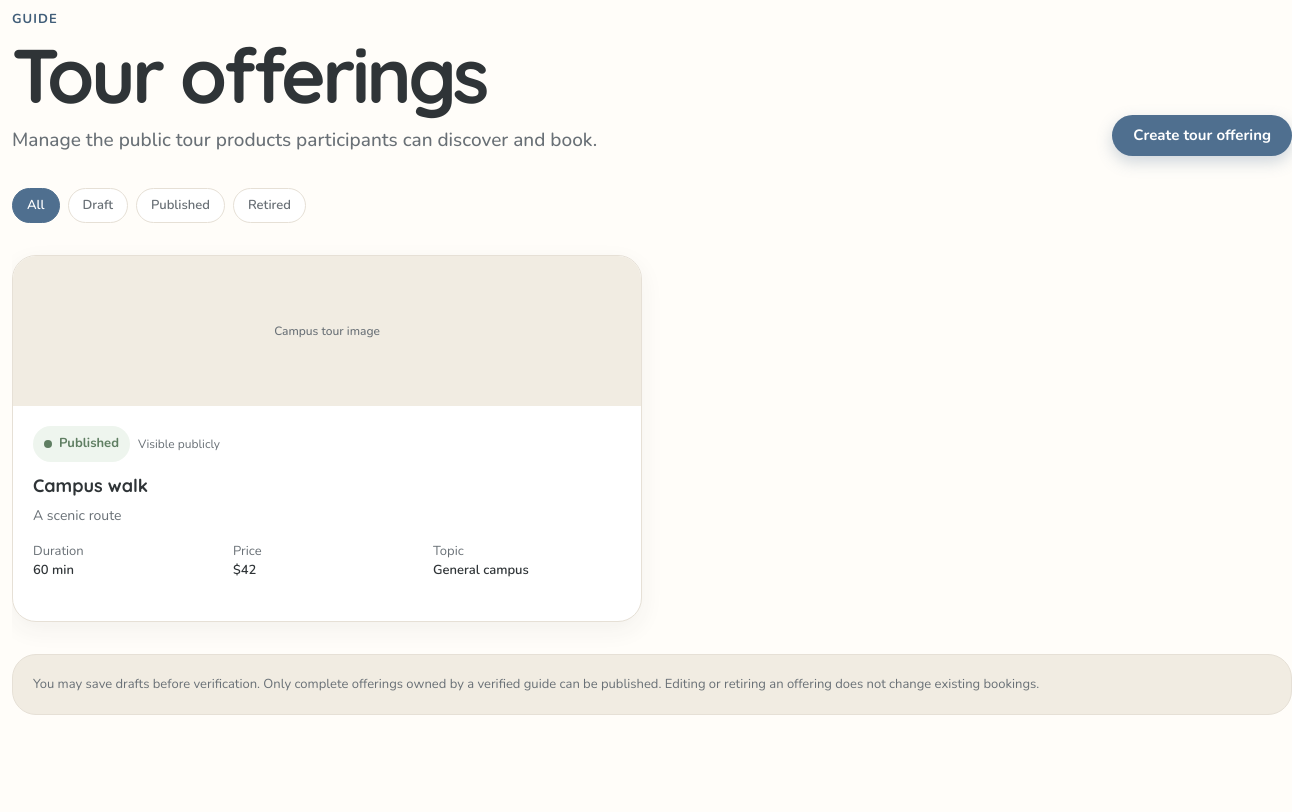
Scenario: TourOfferingsPage › shows a filter empty-state when no offerings match the filter
Step 1. Click the button "Draft" → (98, 205), box [68, 188, 128, 223]
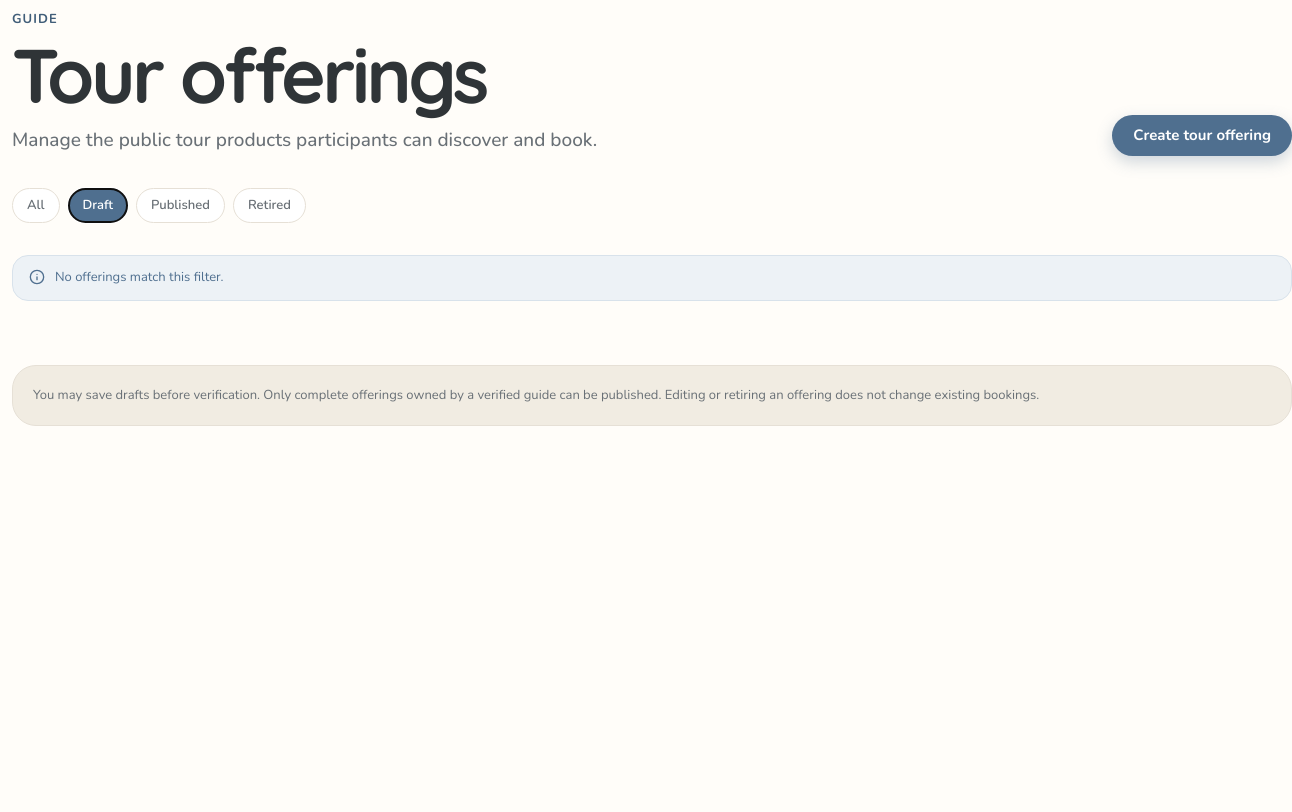
Now the message reads "No offerings match this filter.", box [55, 268, 224, 286]
